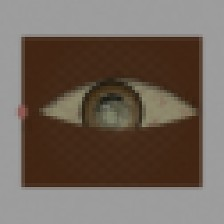corneal_ulcer: (86, 94, 140, 137)
